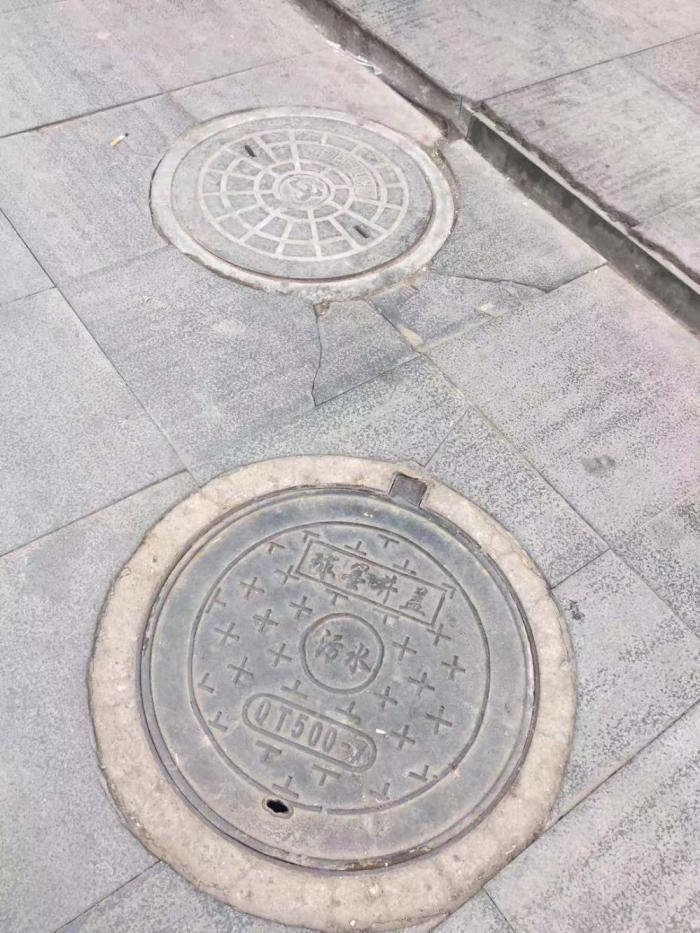wellcover: (102, 467, 604, 901), (124, 79, 478, 303)
